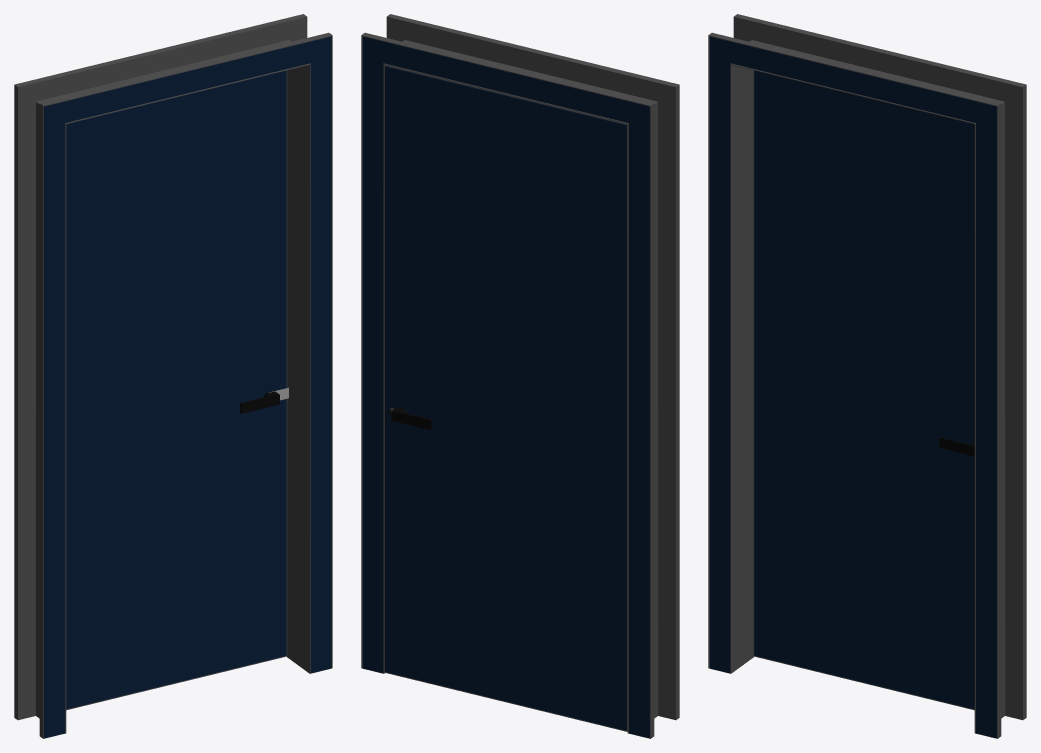
Rendered from drzwi.FBX.
3 renders of one model, left to right at view 1: azimuth 30°, elevation 25°; view 2: azimuth 150°, elevation 25°; view 3: azimuth 330°, elevation 25°, orthographic.
Visible parts, largest first — view 1: Box613, C-Ext001; view 2: Box613, C-Ext001, Rectangle0; view 3: Box613, C-Ext001.
Part boxes in pixels (bbox=[...]): Box613: bbox=[66, 70, 287, 710]; C-Ext001: bbox=[14, 14, 332, 738]; Box613: bbox=[384, 65, 627, 731]; C-Ext001: bbox=[361, 14, 679, 738]; Rectangle0: bbox=[391, 407, 431, 429]; Box613: bbox=[753, 70, 974, 710]; C-Ext001: bbox=[708, 14, 1026, 738].
Size of the model in its own units: 11400 by 23828 by 2381.
